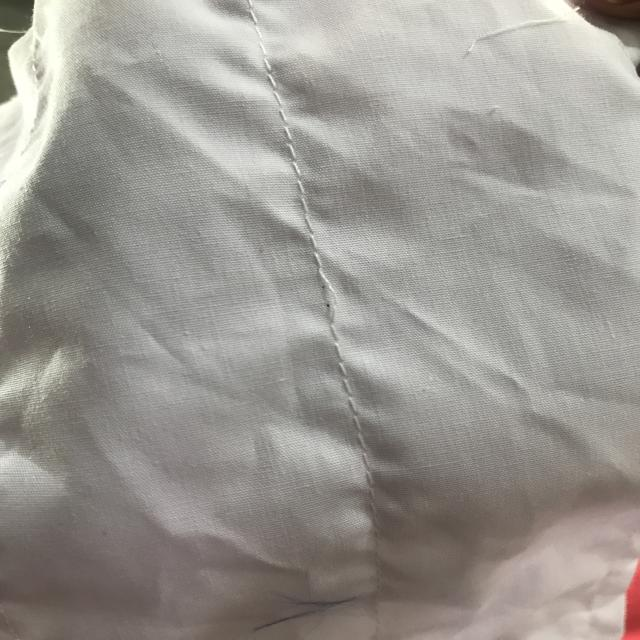good: (258, 126, 332, 237)
skip: (307, 255, 364, 332)
